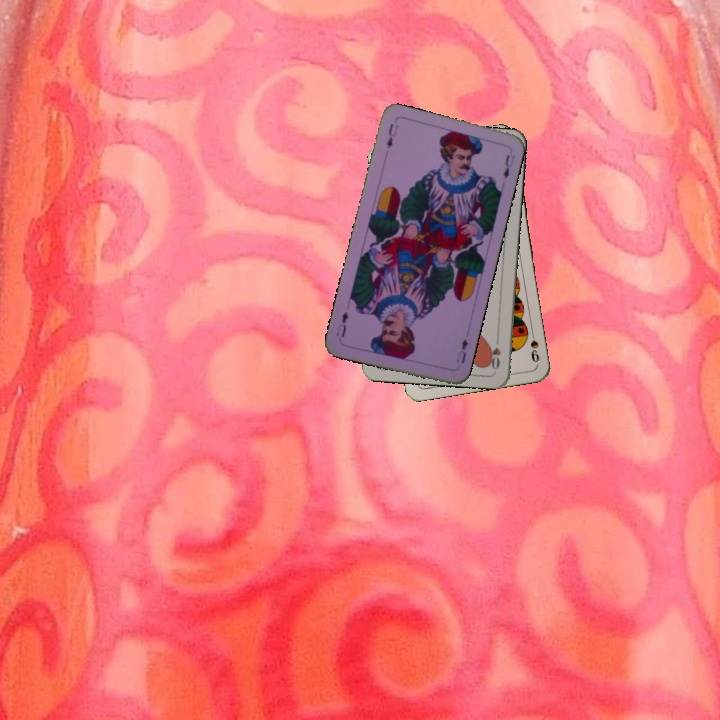EU: (382, 120, 401, 151), (452, 335, 470, 366)
HO: (486, 332, 504, 372)
S9: (526, 325, 542, 365)
